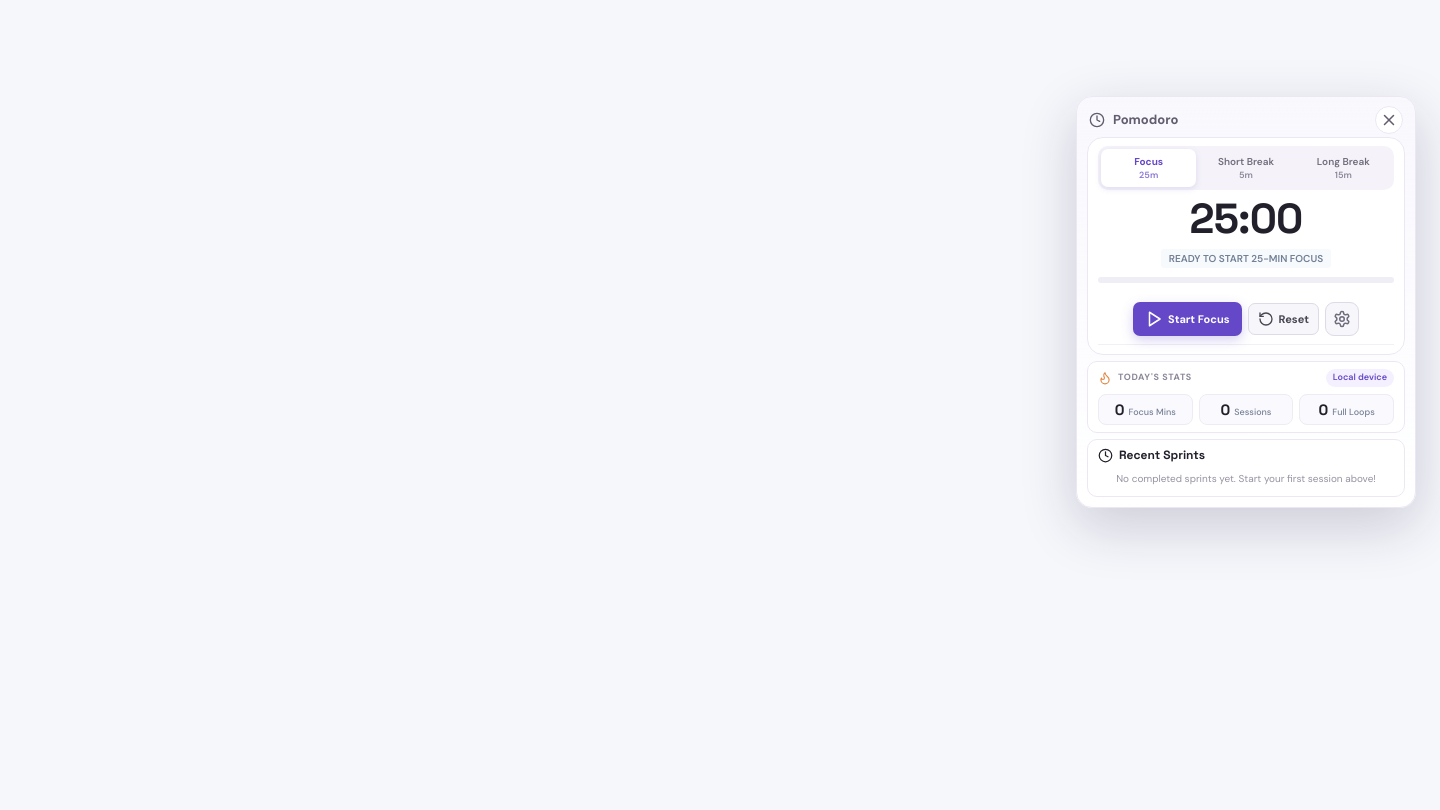
Scenario: LivePomodoroSection Component (Guest Unauthenticated Experience) › starts, pauses, and resumes timer correctly
The image size is (1440, 810).
Click the button "Start Focus" at (1187, 319), box [1133,302,1242,336]
Wait 5000 ms
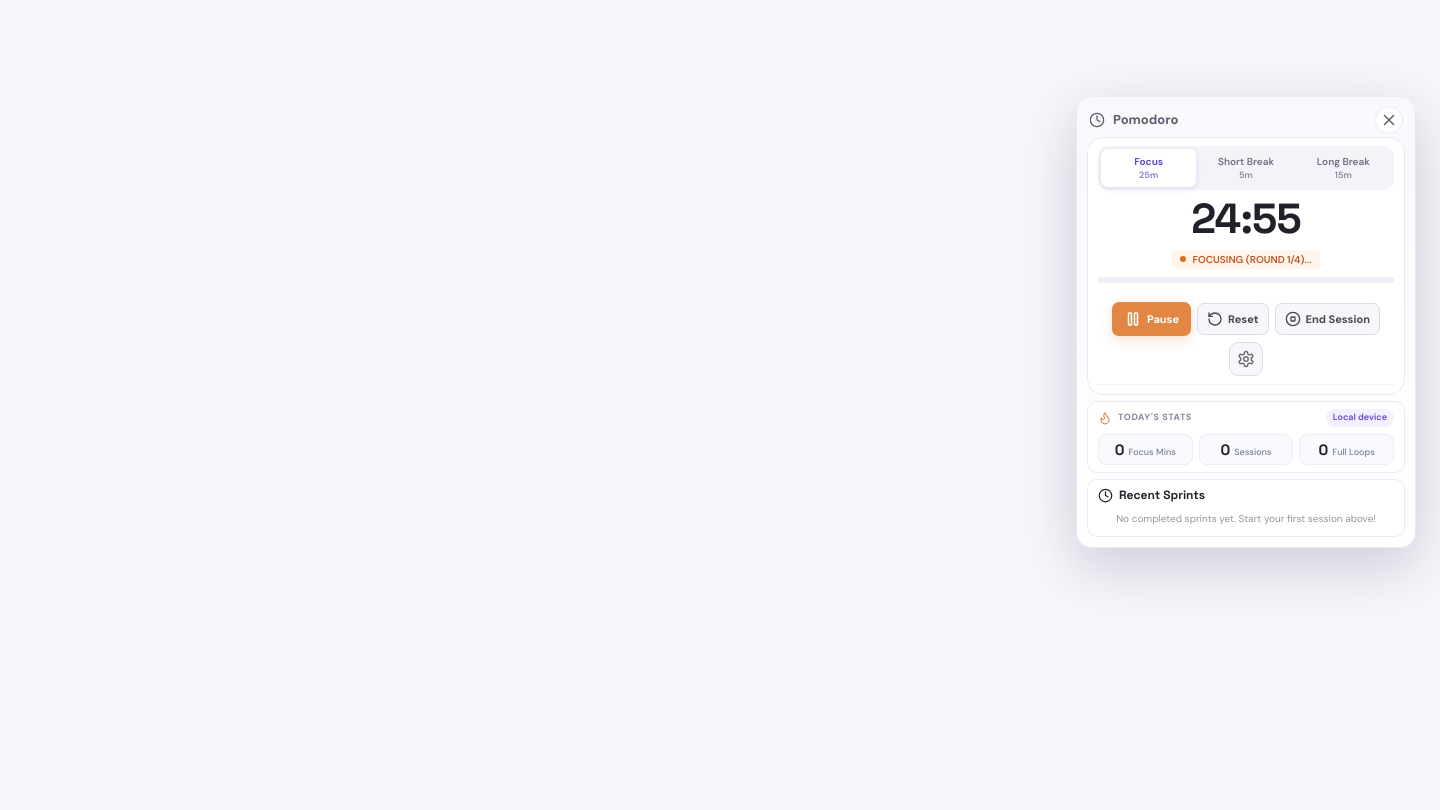
Check: the text "24:55" is shown, box [1191,192,1301,245]
Check: the button "Pause" is shown
Click the button "Pause" at (1152, 319), box [1112,302,1191,336]
Wait 5000 ms
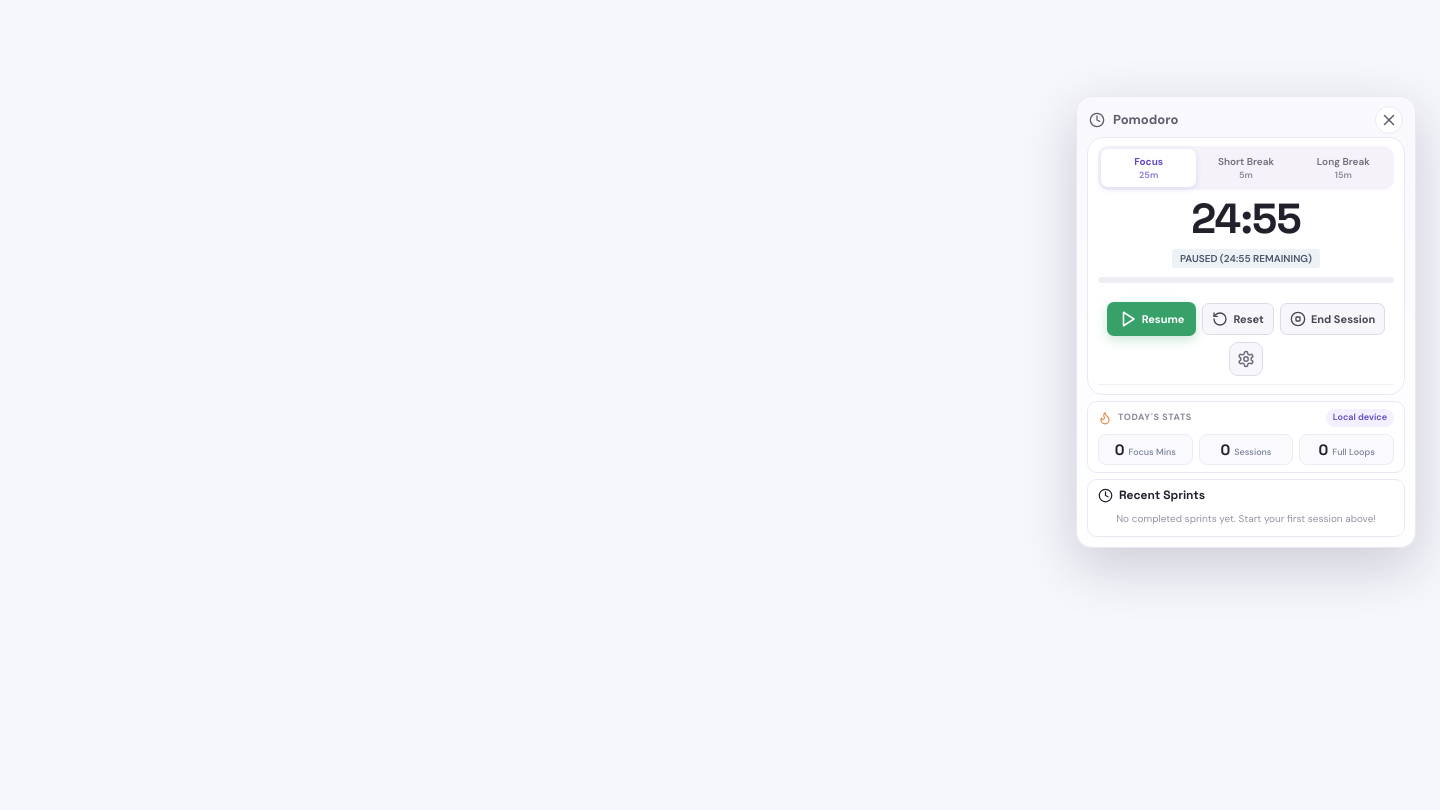
Check: the text "24:55" is shown, box [1191,192,1301,245]
Check: the button "Resume" is shown
Click the button "Resume" at (1152, 319), box [1107,302,1196,336]
Wait 5000 ms
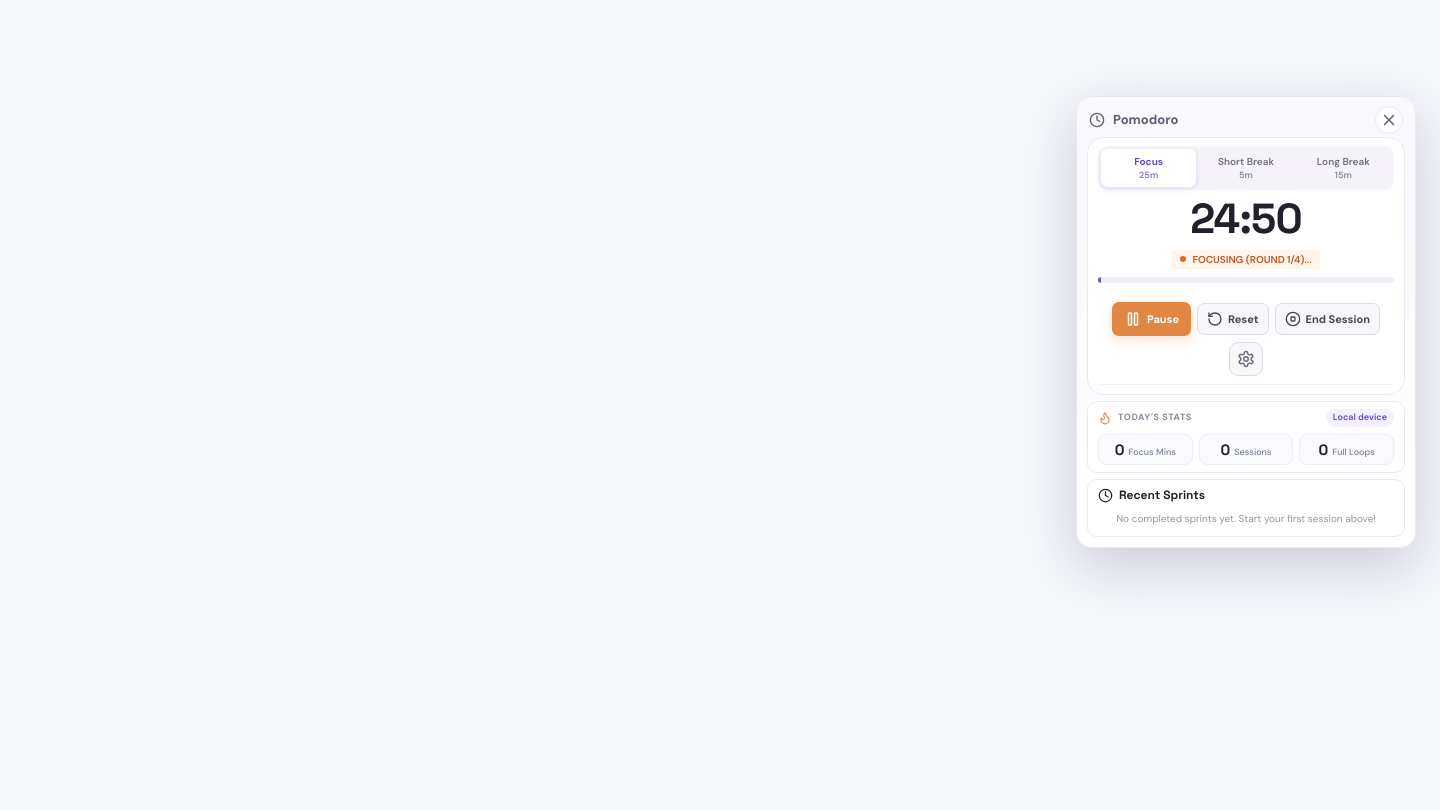
Check: the text "24:50" is shown, box [1190,192,1302,245]
